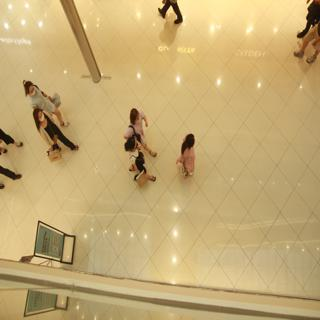person: (30, 106, 81, 166), (119, 135, 160, 199), (18, 73, 69, 122), (179, 124, 205, 181), (127, 104, 152, 153)
